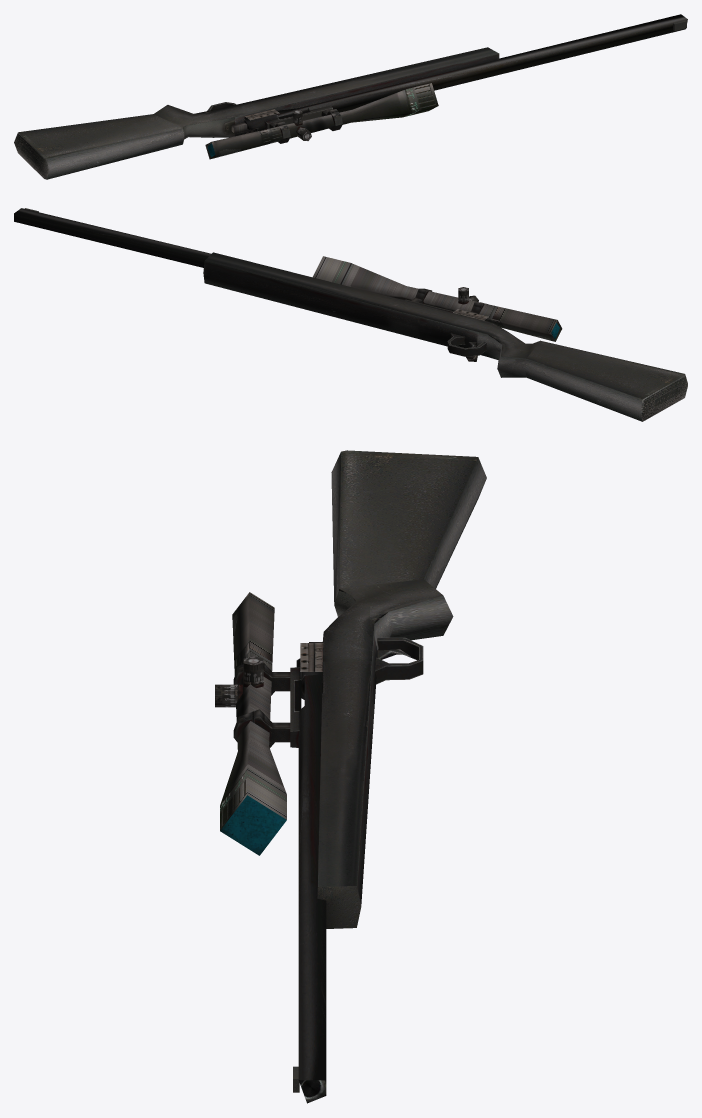
Rendered from weapon_remington700_LOD1.obj.
3 renders of one model, top to bottom at view 1: azimuth 30°, elevation 25°; view 2: azimuth 150°, elevation 25°; view 3: azimuth 270°, elevation 25°, orthographic. The views are drawn at different scales.
Parts seen in each view (by area): view 1: mtl_weapon_remington700; view 2: mtl_weapon_remington700; view 3: mtl_weapon_remington700, mtl_weapon_acog_alpha.
Part boxes in pixels (x1,y1,x2,y2): mtl_weapon_remington700: (14,14,687,179); mtl_weapon_remington700: (14,208,687,421); mtl_weapon_remington700: (215,450,486,1103); mtl_weapon_acog_alpha: (220,795,286,855).
Size of the model in its own units: 109 by 6.75 by 20.29.
